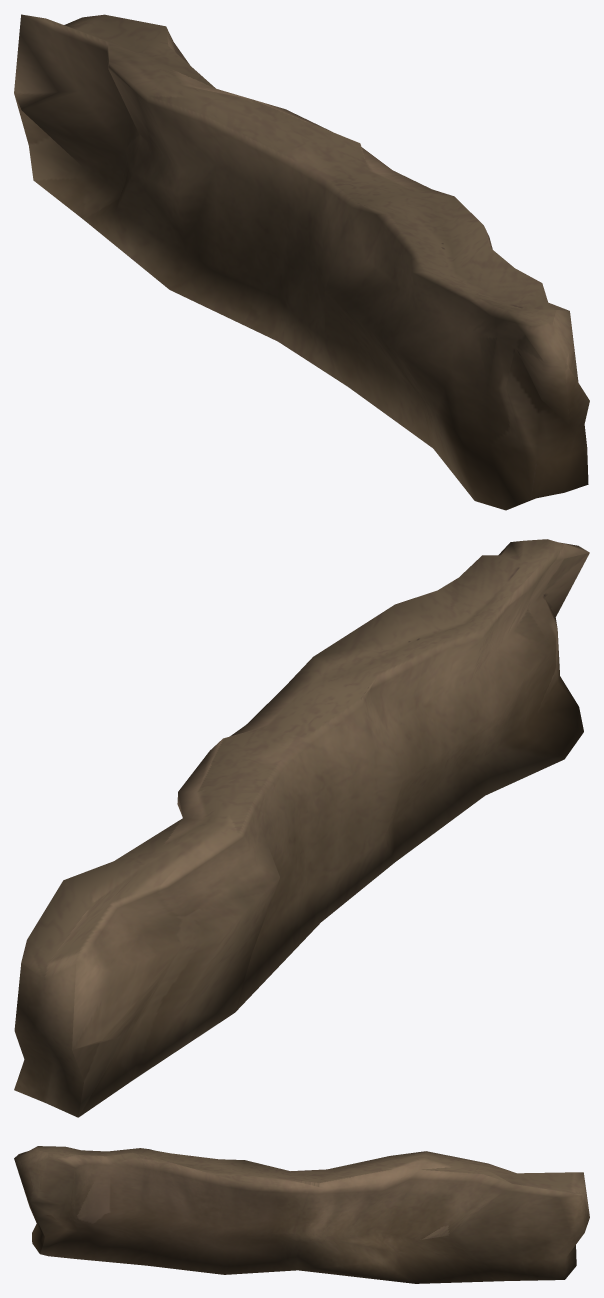
Rendered from Cliff.glb.
3 renders of one model, top to bottom at view 1: azimuth 30°, elevation 25°; view 2: azimuth 150°, elevation 25°; view 3: azimuth 270°, elevation 25°, orthographic. The views are drawn at different scales.
Visible parts, largest first — view 1: Cube; view 2: Cube; view 3: Cube.
Boxes of the visible parts, <box> form: Cube: <box>14,14,589,510</box>; Cube: <box>14,539,589,1117</box>; Cube: <box>14,1146,589,1283</box>.
Size of the model in its own units: 18.02 by 28.29 by 122.
1 material, 1 textured.
